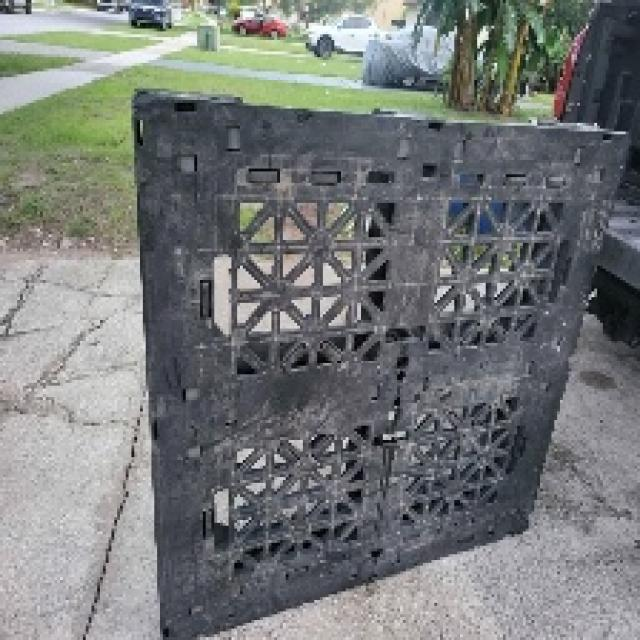igps: (122, 82, 636, 640)
